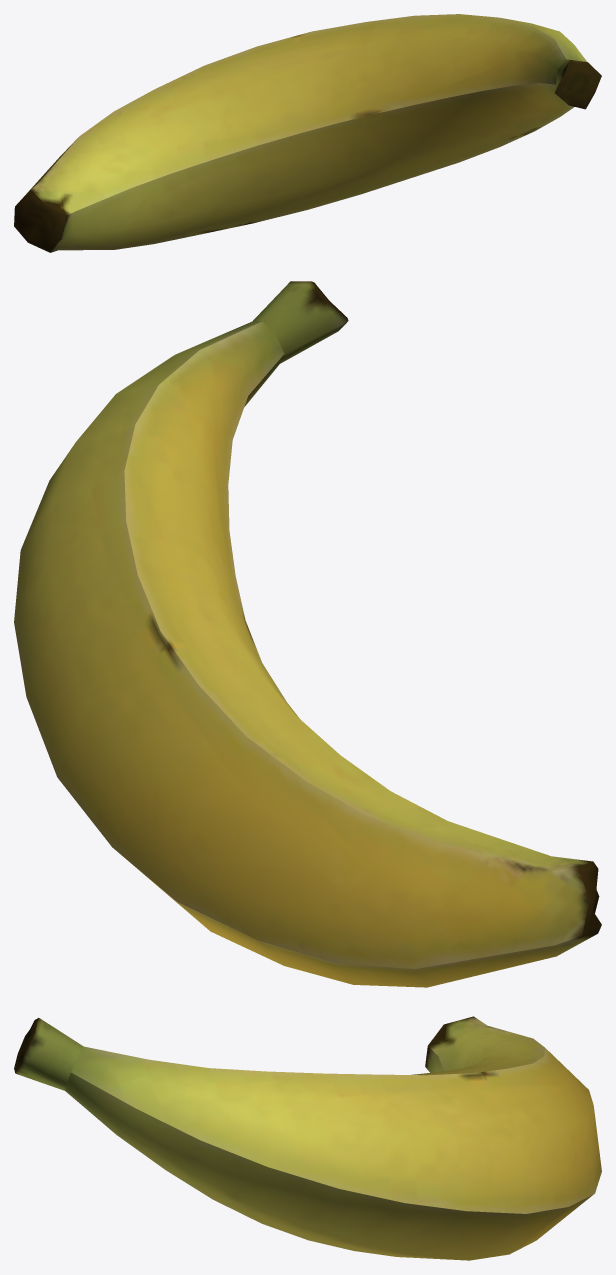
Rendered from Banana.glb.
3 renders of one model, top to bottom at view 1: azimuth 30°, elevation 25°; view 2: azimuth 150°, elevation 25°; view 3: azimuth 270°, elevation 25°, orthographic. The views are drawn at different scales.
Parts seen in each view (by area): view 1: Banana; view 2: Banana; view 3: Banana.
Boxes of the visible parts, bbox=[...] form: Banana: bbox=[14, 14, 601, 252]; Banana: bbox=[14, 281, 601, 987]; Banana: bbox=[14, 1016, 601, 1260].
Size of the model in its own units: 1.58 by 0.8711 by 1.47.
1 material, 1 textured.
